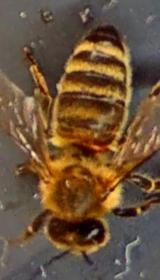varroa_mite: (78, 123, 112, 167)
